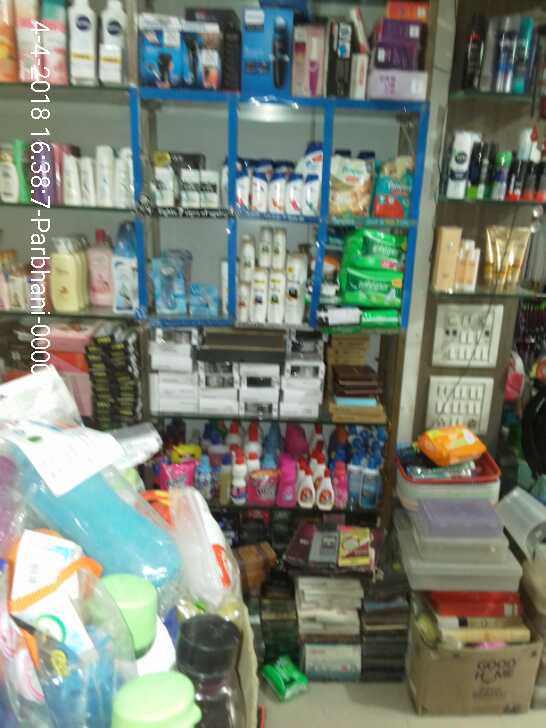gillete: (498, 17, 515, 92), (471, 142, 485, 202)
venus: (158, 249, 186, 313), (189, 283, 219, 312)
